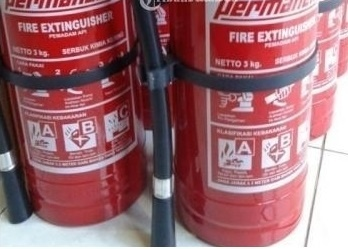fire_extinguisher: (0, 0, 148, 227)
